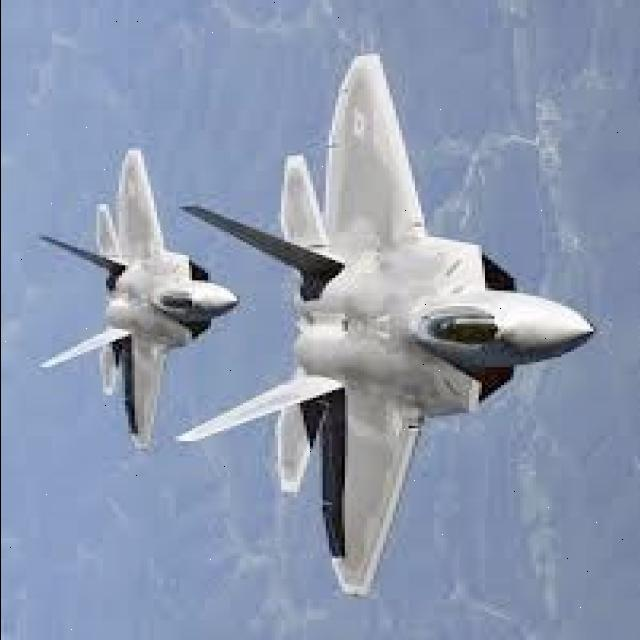F22: (156, 0, 632, 640), (8, 127, 232, 490)
